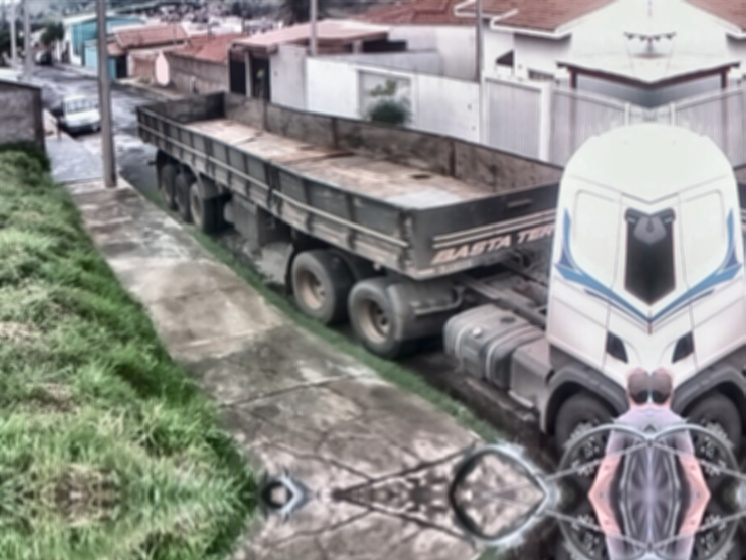person: (583, 366, 715, 560)
